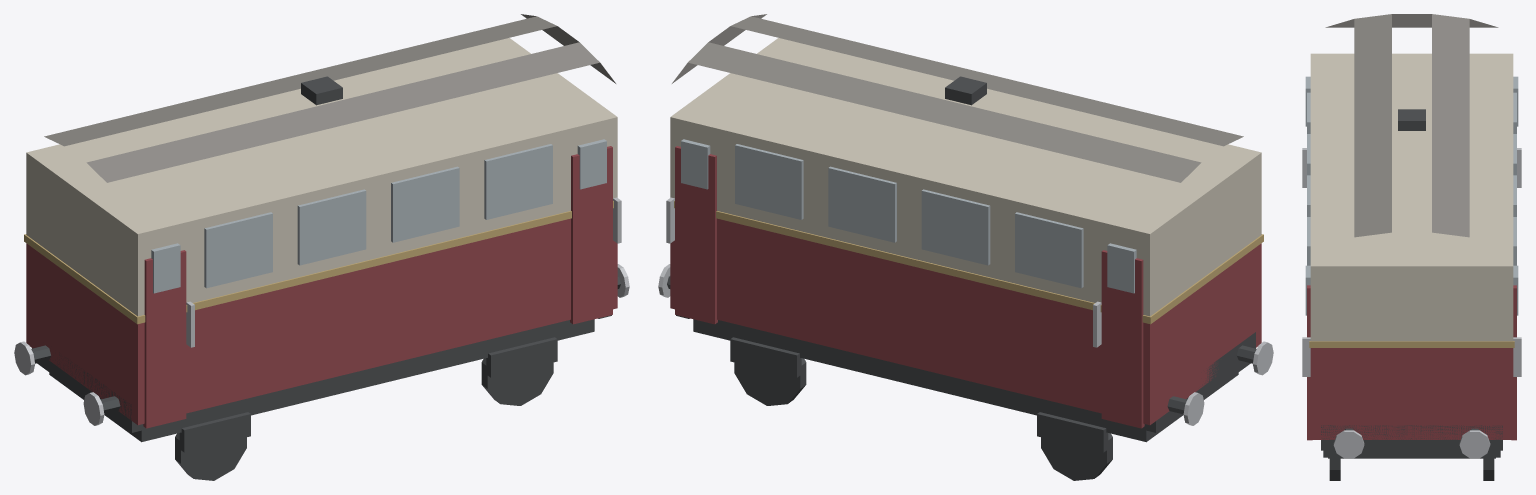
File: rail_carriage.glb
3 views of the same model, side by side, from view 1: azimuth 30°, elevation 25°; view 2: azimuth 150°, elevation 25°; view 3: azimuth 270°, elevation 25° (orthographic). The views are drawn at different scales.
Size of the model in its own units: 3.97 by 2.33 by 1.57.
